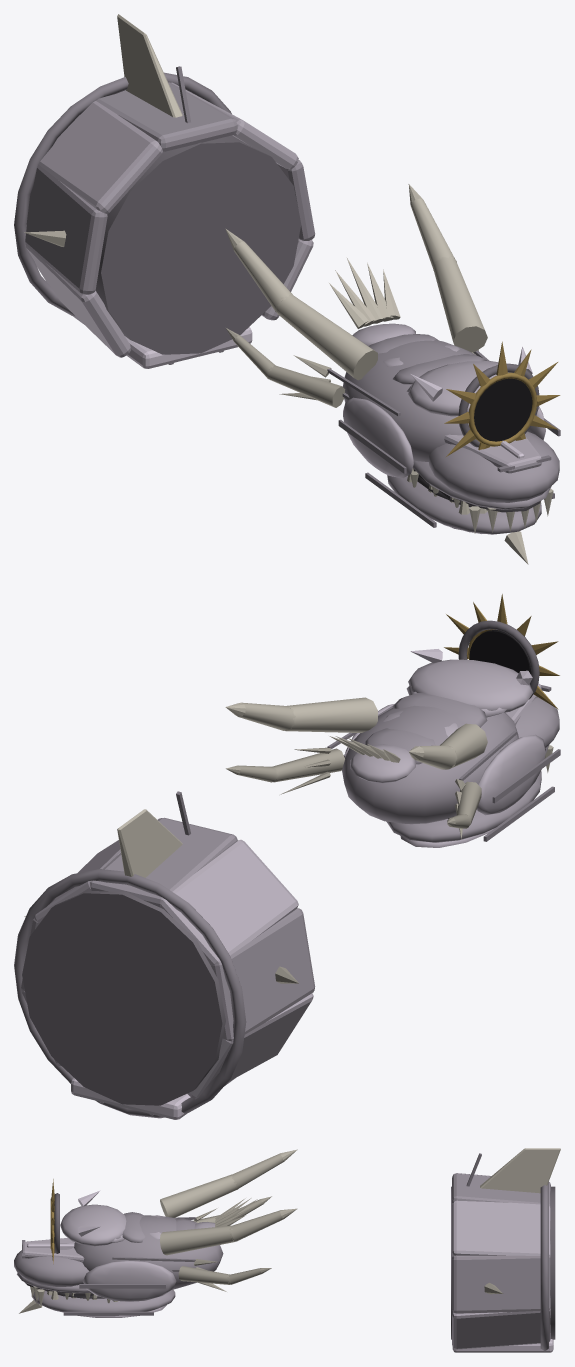
File: leviathan.glb
3 renders of one model, top to bottom at view 1: azimuth 30°, elevation 25°; view 2: azimuth 150°, elevation 25°; view 3: azimuth 270°, elevation 25°, orthographic. The views are drawn at different scales.
Parts seen in each view (by area): view 1: leviathan*0.002, leviathan*2.010, leviathan*1.018, leviathan*1.6, leviathan*1.003, leviathan*1.019, leviathan*1.022, bone*0.011, leviathan*2.007, bone*0.052, leviathan*1.015, leviathan*0.05 (+16 smaller); view 2: leviathan*0.002, leviathan*1.6, leviathan*2.010, leviathan*1.022, leviathan*1.018, leviathan*2.004, leviathan*1.019, leviathan*2.007, leviathan*2.009, bone*0.052, bone*0.66, leviathan*1.015 (+13 smaller); view 3: leviathan*1.020, leviathan*2.011, leviathan*1.6, leviathan*2.012, leviathan*2.006, bone*0.052, leviathan*2.004, leviathan*1.003, leviathan*1.015, leviathan*1.019, bone*0.011, bone*0.66 (+14 smaller).
Part boxes in pixels (bbox=[...]): leviathan*0.002: bbox=[95, 135, 301, 354]; leviathan*2.010: bbox=[38, 101, 162, 213]; leviathan*1.018: bbox=[25, 164, 107, 294]; leviathan*1.6: bbox=[342, 340, 475, 461]; leviathan*1.003: bbox=[429, 431, 559, 502]; leviathan*1.019: bbox=[96, 82, 237, 151]; leviathan*1.022: bbox=[14, 72, 231, 316]; bone*0.011: bbox=[277, 294, 377, 380]; leviathan*2.007: bbox=[343, 397, 413, 478]; bone*0.052: bbox=[117, 14, 182, 117]; leviathan*1.015: bbox=[387, 475, 541, 534]; leviathan*0.05: bbox=[474, 378, 532, 441]; leviathan*0.002: bbox=[22, 890, 225, 1105]; leviathan*1.6: bbox=[342, 705, 518, 824]; leviathan*2.010: bbox=[160, 839, 298, 965]; leviathan*1.022: bbox=[14, 869, 246, 1118]; leviathan*1.018: bbox=[211, 908, 315, 1041]; leviathan*2.004: bbox=[408, 659, 533, 712]; leviathan*1.019: bbox=[89, 817, 237, 907]; leviathan*2.007: bbox=[477, 734, 545, 815]; leviathan*2.009: bbox=[187, 993, 313, 1099]; bone*0.052: bbox=[117, 809, 182, 885]; bone*0.66: bbox=[286, 697, 377, 732]; leviathan*1.015: bbox=[386, 771, 541, 842]; leviathan*1.020: bbox=[452, 1255, 550, 1313]; leviathan*2.011: bbox=[452, 1200, 550, 1256]; leviathan*1.6: bbox=[74, 1215, 223, 1289]; leviathan*2.012: bbox=[452, 1308, 550, 1349]; leviathan*2.006: bbox=[82, 1261, 176, 1301]; bone*0.052: bbox=[480, 1148, 560, 1193]; leviathan*2.004: bbox=[60, 1204, 126, 1246]; leviathan*1.003: bbox=[14, 1243, 89, 1286]; leviathan*1.015: bbox=[31, 1289, 175, 1316]; leviathan*1.019: bbox=[452, 1173, 550, 1207]; bone*0.011: bbox=[160, 1175, 236, 1217]; bone*0.66: bbox=[160, 1225, 233, 1255].
Size of the model in its own units: 6.05 by 6.2 by 15.74.
